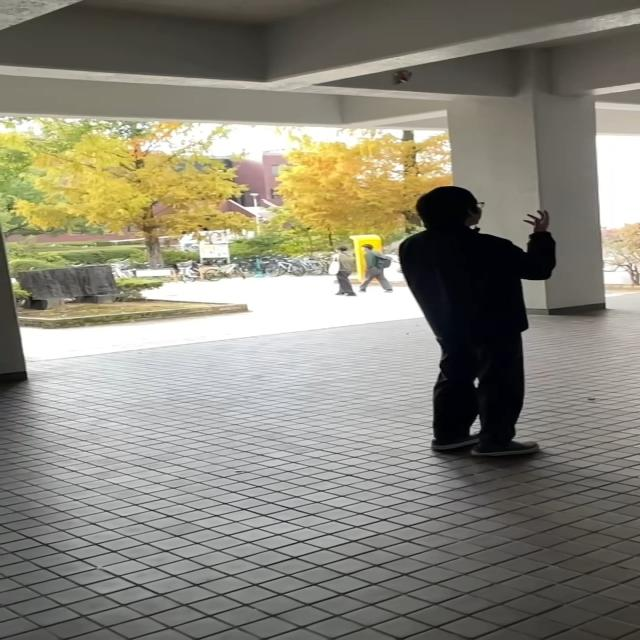paper: (386, 68, 411, 91)
